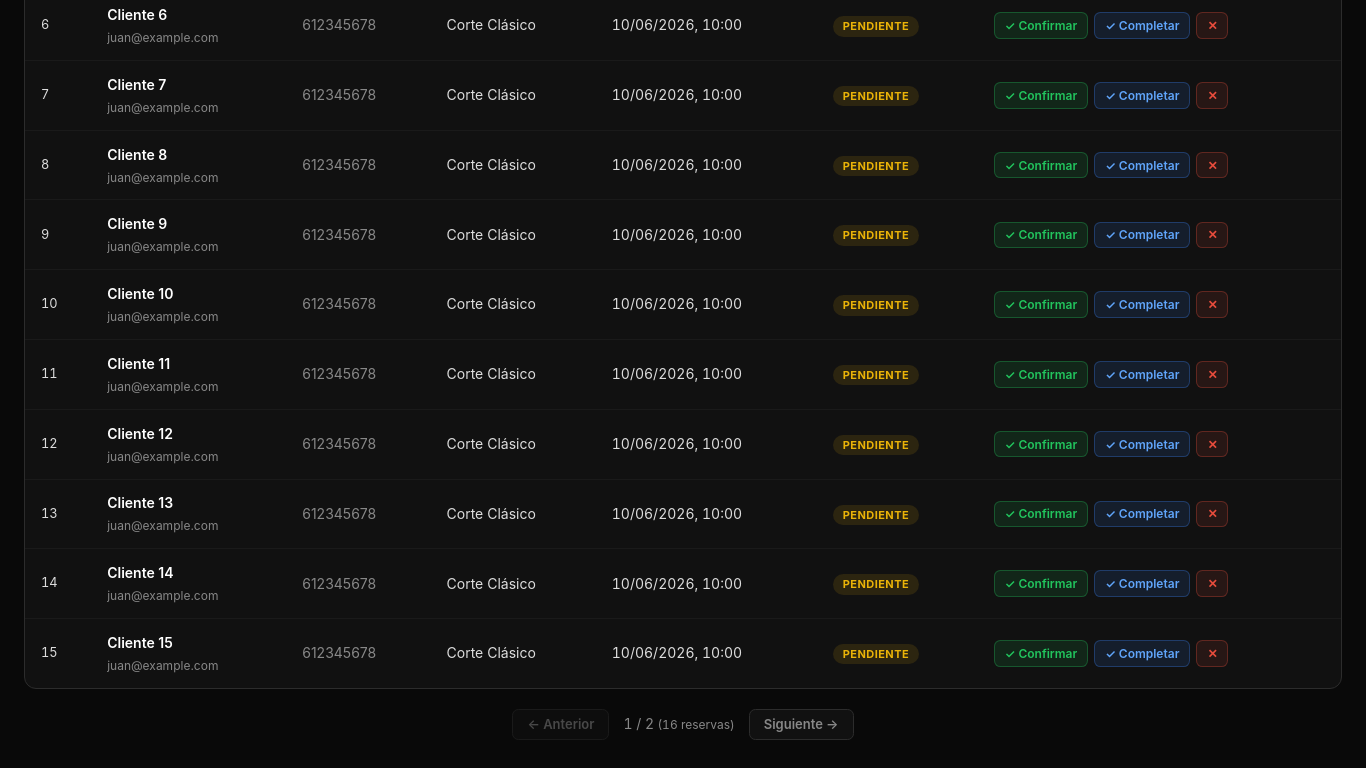
Test: AdminReservas › pagina la tabla cuando hay más reservas que PAGE_SIZE
(page scrolled)
Expected: the text "Cliente 15" is shown, [107,634,173,651]
Expected: the text "Cliente 16" is not shown
Click the button "Siguiente →" at (801, 724), box [749,709,854,740]
(page scrolled)
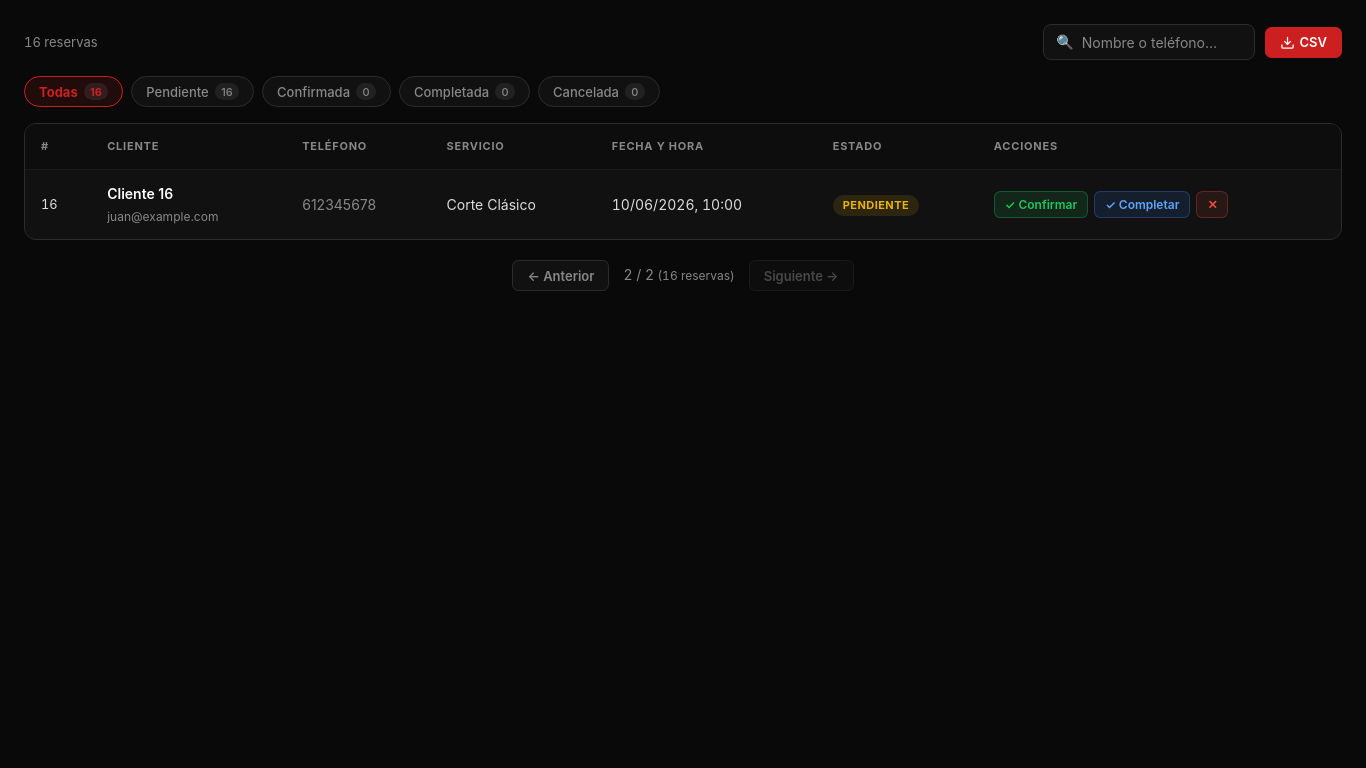
Now the text "Cliente 16" is shown, box [107,185,173,202]
Now the text "2 / 2 (16 reservas)" is shown, box [623,264,735,287]
